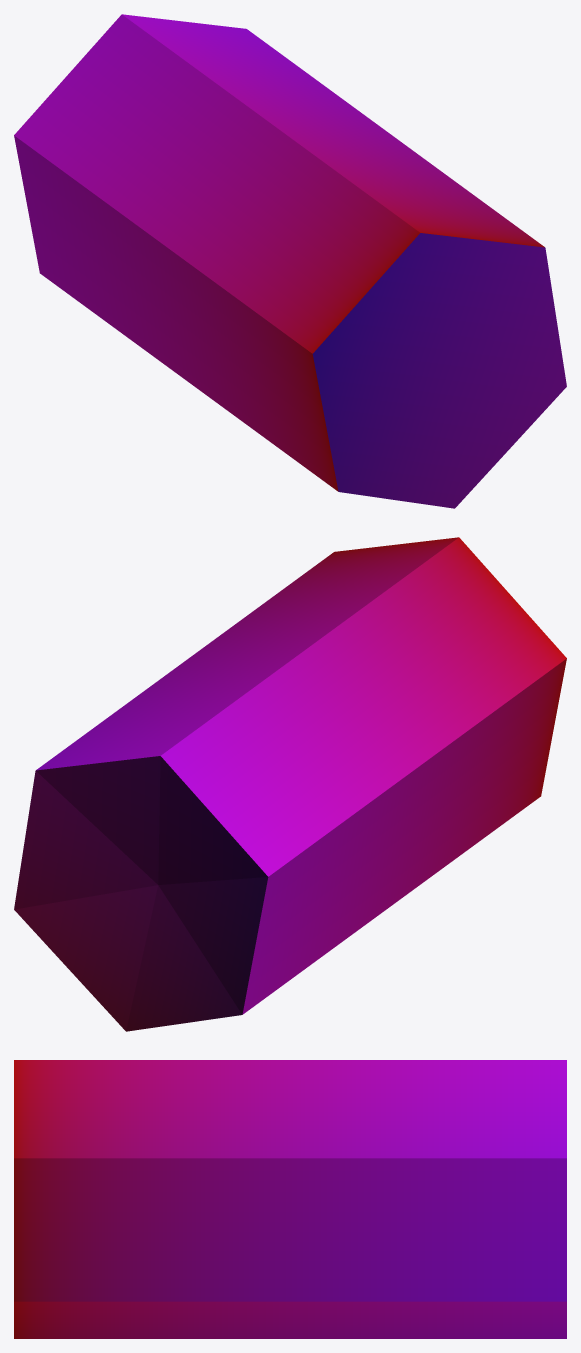
Rendered from model_2CCA.glb.
3 renders of one model, top to bottom at view 1: azimuth 30°, elevation 25°; view 2: azimuth 150°, elevation 25°; view 3: azimuth 270°, elevation 25°, orthographic. The views are drawn at different scales.
Visible parts, largest first — view 1: model_2CCA; view 2: model_2CCA; view 3: model_2CCA.
Boxes of the visible parts, x1,y1,x2,y2 form: model_2CCA: (14, 14, 566, 508); model_2CCA: (14, 537, 566, 1031); model_2CCA: (14, 1060, 566, 1338).
Size of the model in its own units: 59.46 by 63.49 by 121.
